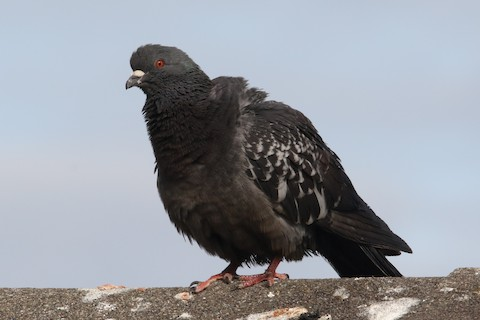pigeon: (122, 40, 416, 295)
